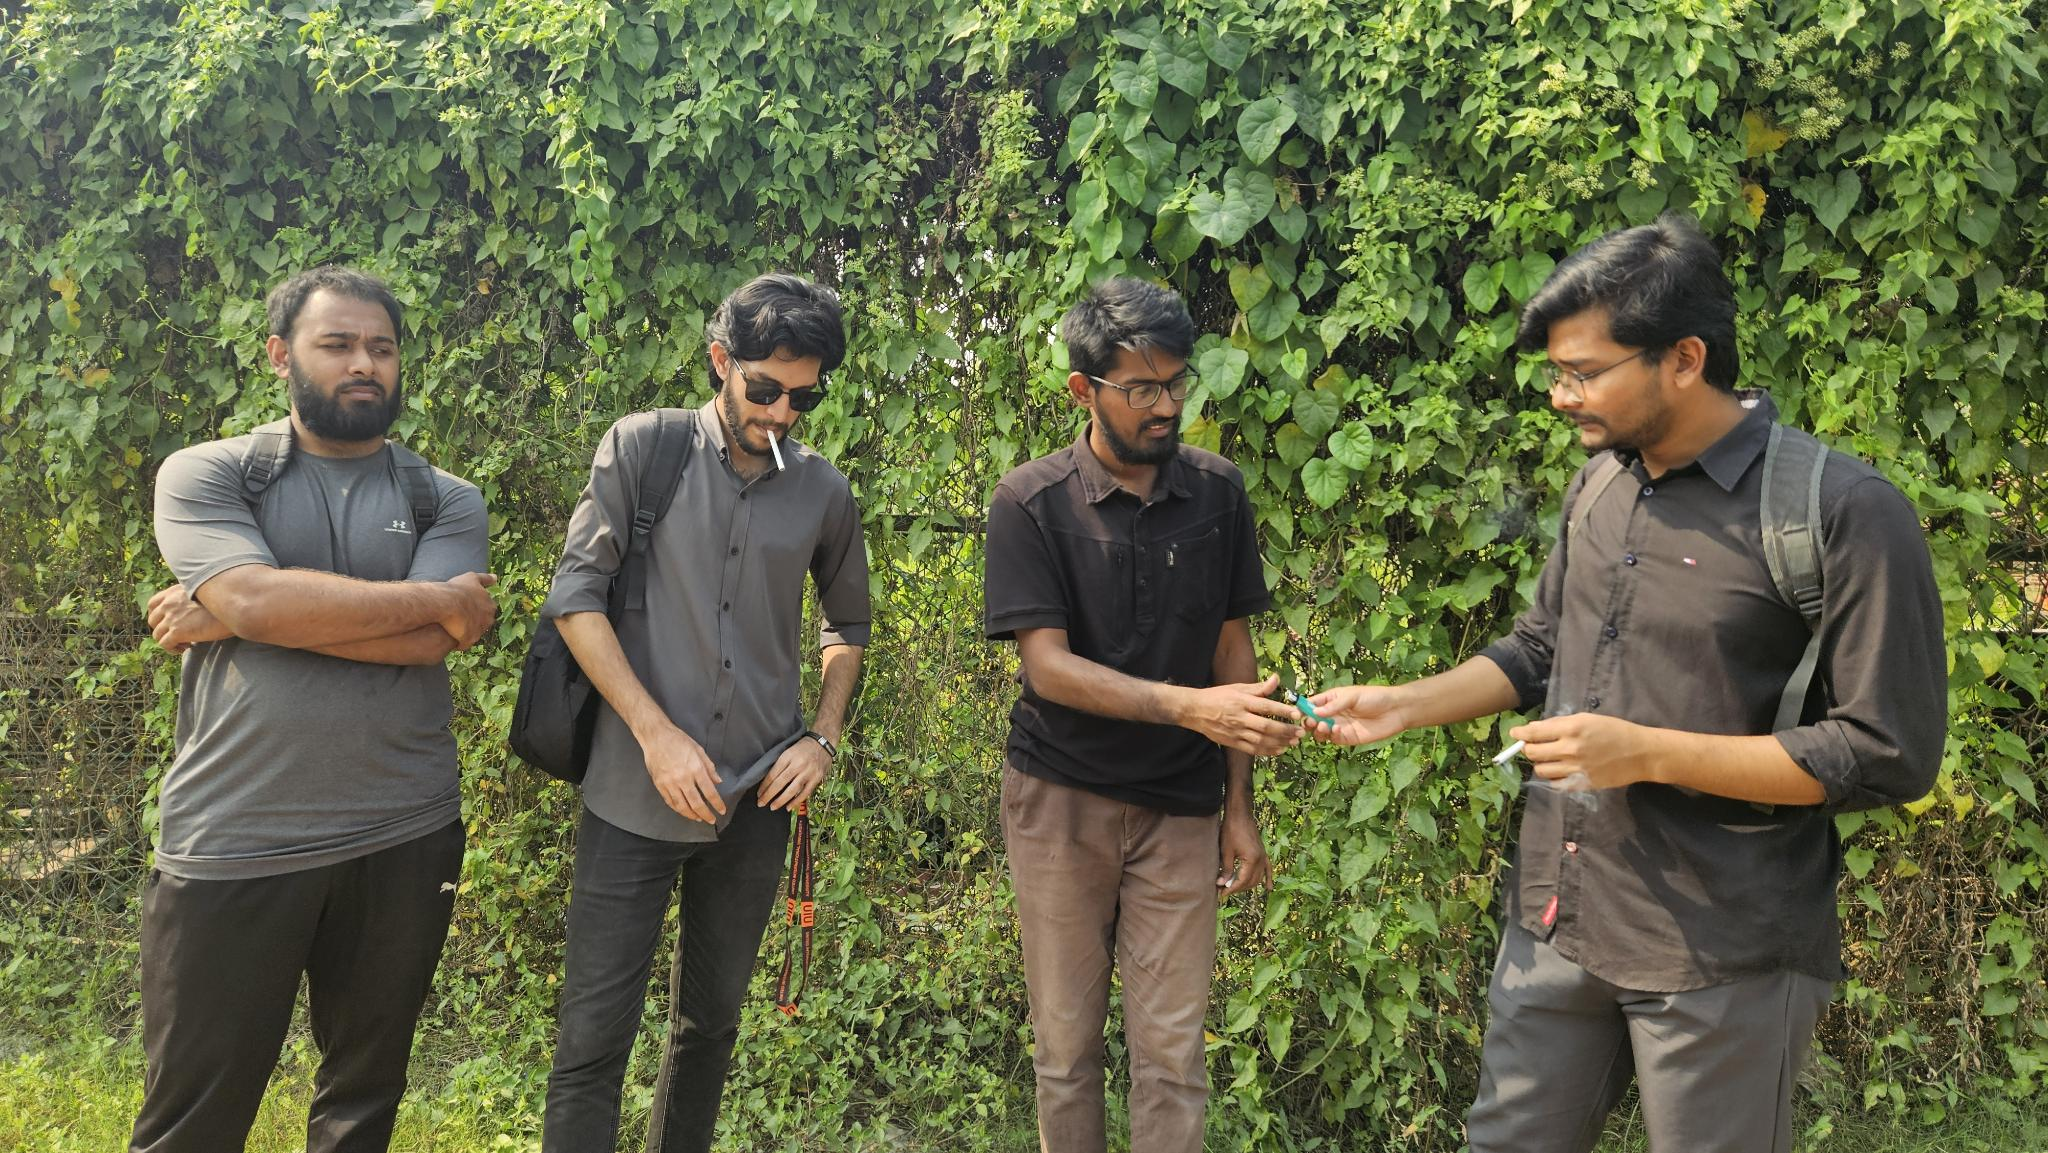cigarette: (1490, 738, 1529, 769), (765, 427, 786, 472)
nonSmoker: (141, 266, 498, 1153), (983, 277, 1307, 1153)
smoker: (1301, 218, 1950, 1153), (508, 273, 872, 1153)
